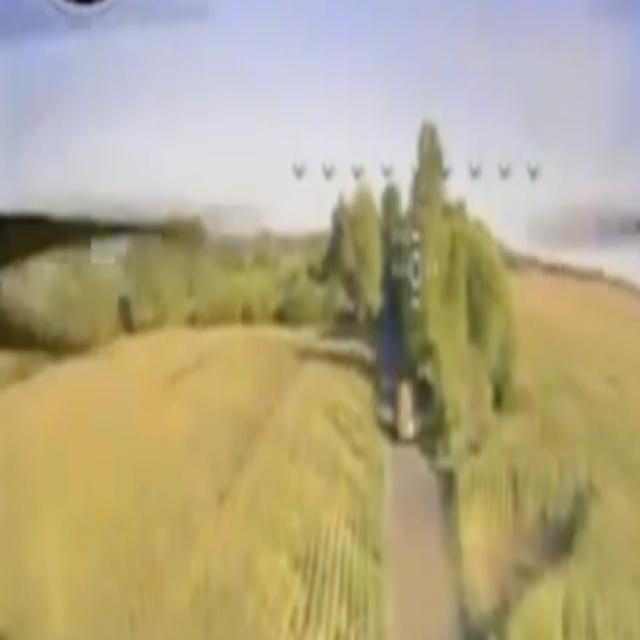vehicle: (394, 376, 418, 446)
